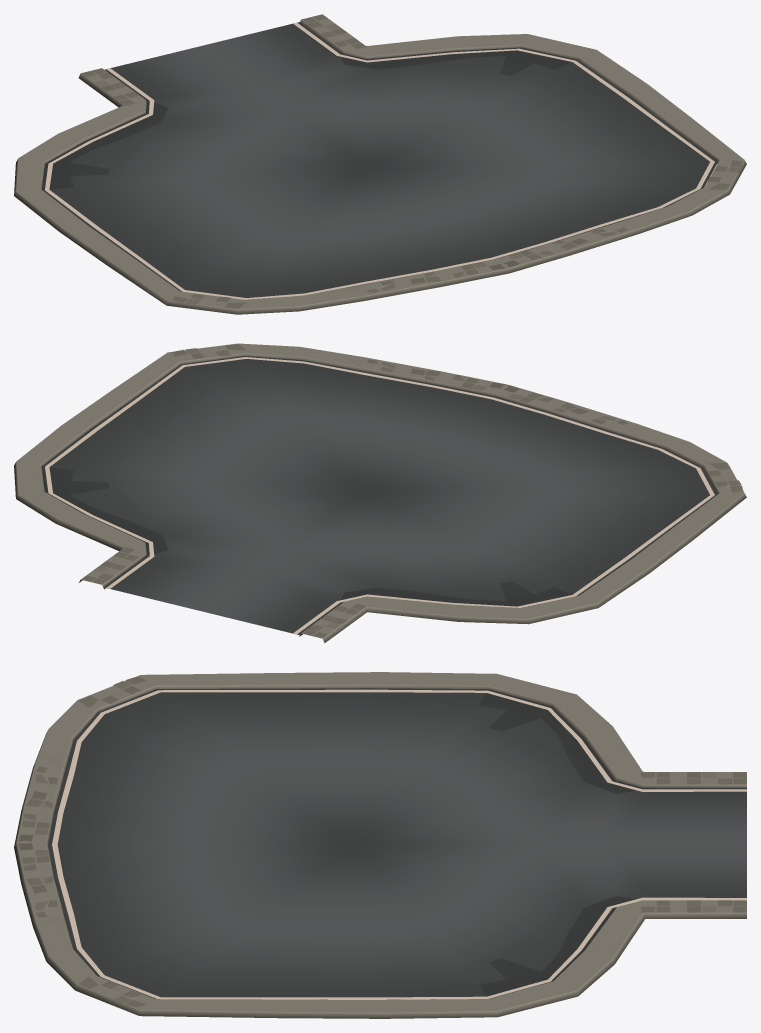
File: TSP_Road_End_03A12.fbx
3 renders of one model, top to bottom at view 1: azimuth 30°, elevation 25°; view 2: azimuth 150°, elevation 25°; view 3: azimuth 270°, elevation 25°, orthographic. The views are drawn at different scales.
Visible parts, largest first — view 1: TSP_Road_End_03A12; view 2: TSP_Road_End_03A12; view 3: TSP_Road_End_03A12.
Part boxes in pixels (<box>): TSP_Road_End_03A12: <box>14,14,746,314</box>; TSP_Road_End_03A12: <box>14,343,746,643</box>; TSP_Road_End_03A12: <box>14,672,746,1018</box>.
Bounding box in the file's own units: 2877 × 22.91 × 2600.
